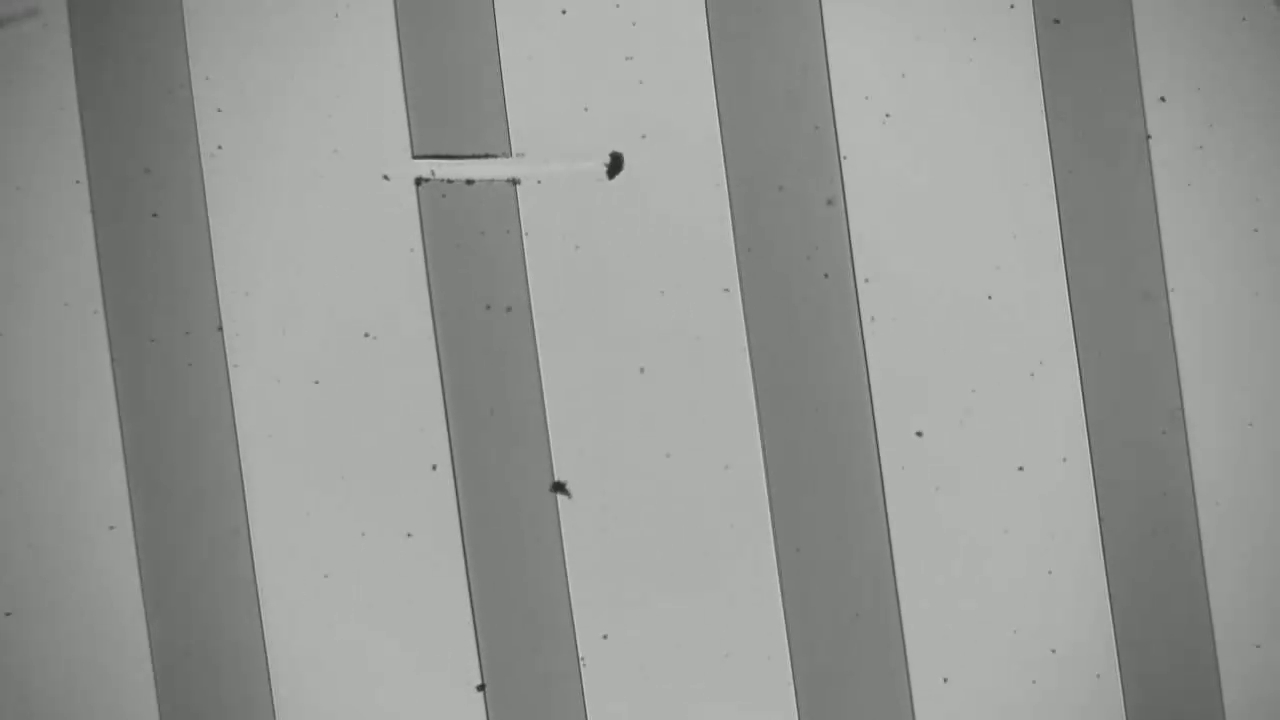Short_circuit: (384, 126, 547, 210)
